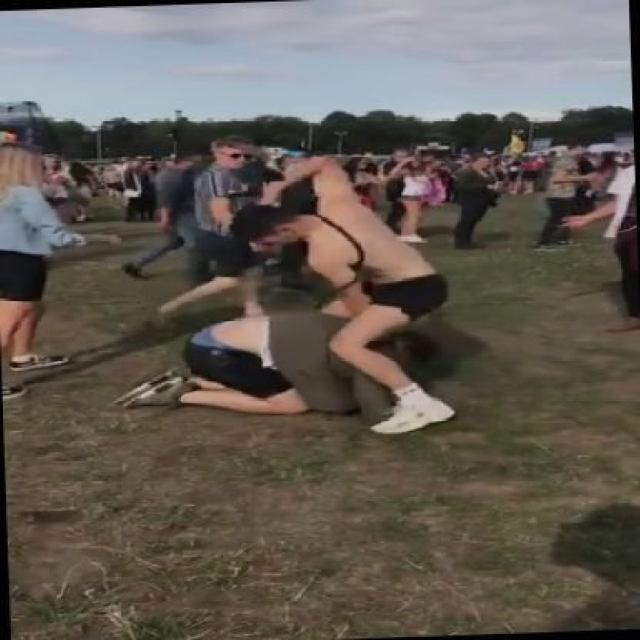fight: (108, 147, 451, 432), (153, 135, 274, 318)
non-fight: (0, 137, 116, 399), (122, 150, 213, 280)
